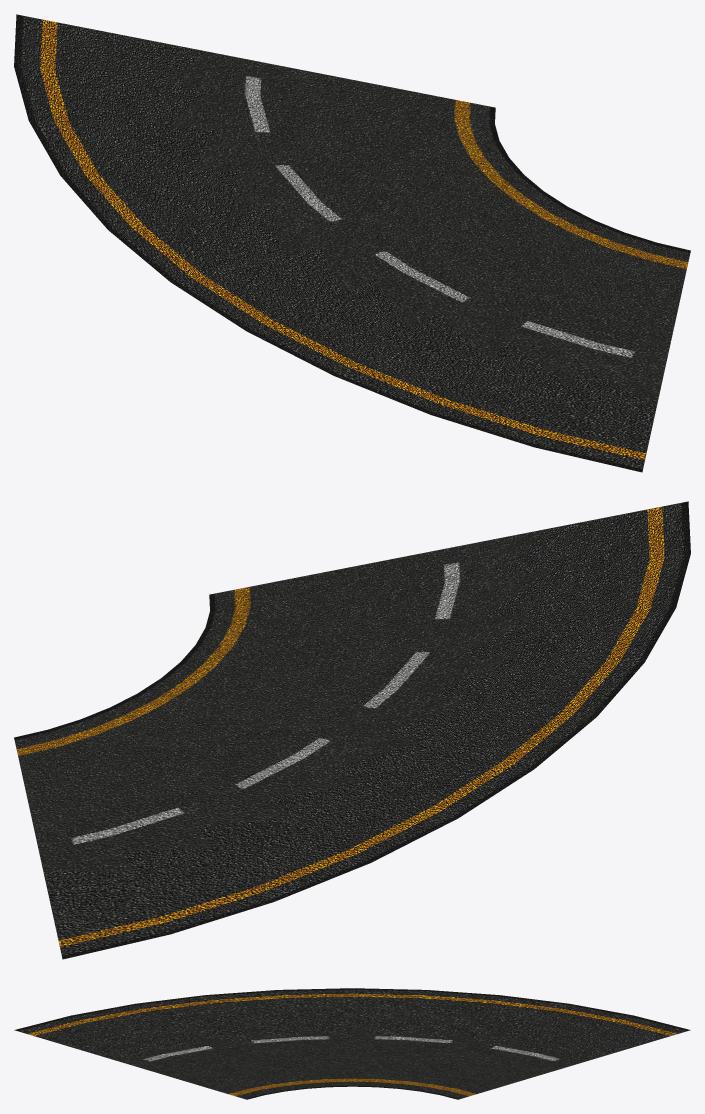
The model's file is bend road.FBX.
The picture shows the model from 3 angles, top to bottom: view 1: azimuth 30°, elevation 25°; view 2: azimuth 150°, elevation 25°; view 3: azimuth 270°, elevation 25°; orthographic projection. The views are drawn at different scales.
Visible parts, largest first — view 1: Plane001; view 2: Plane001; view 3: Plane001.
Part boxes in pixels (left/top/right/bottom): Plane001: left=14, top=14, right=690, bottom=472; Plane001: left=14, top=501, right=690, bottom=959; Plane001: left=14, top=988, right=690, bottom=1099.
Bounding box in the file's own units: 56.99 × 1.88e-06 × 146.
Materials: 1 (1 with a texture image).
